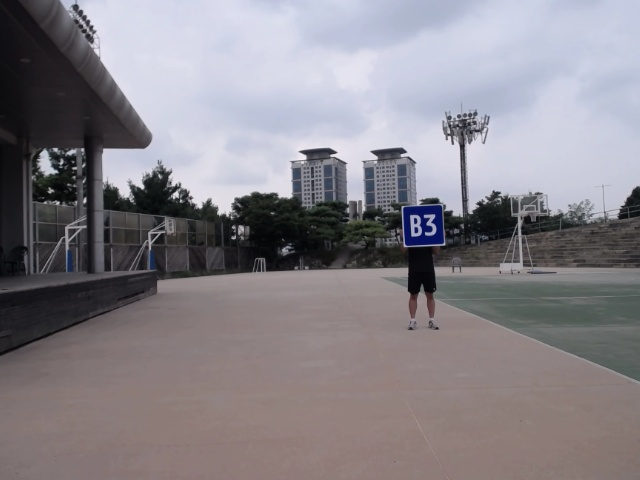delivery_b3: (400, 202, 448, 248)
